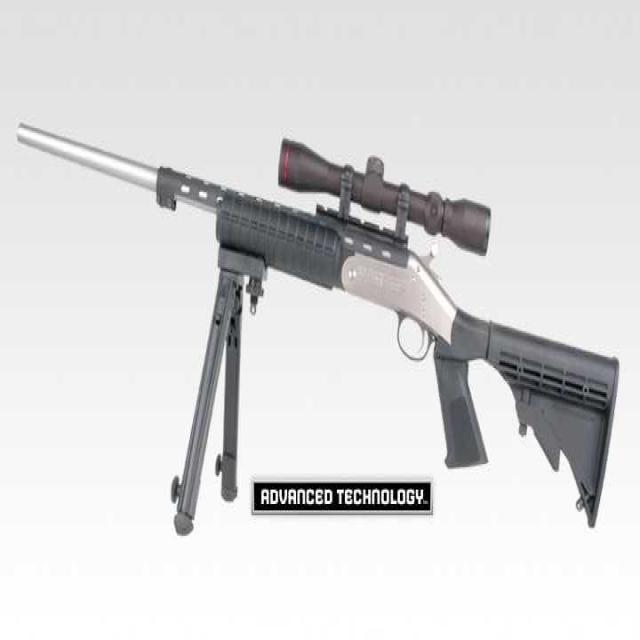heavyweapon: (10, 59, 629, 548)
